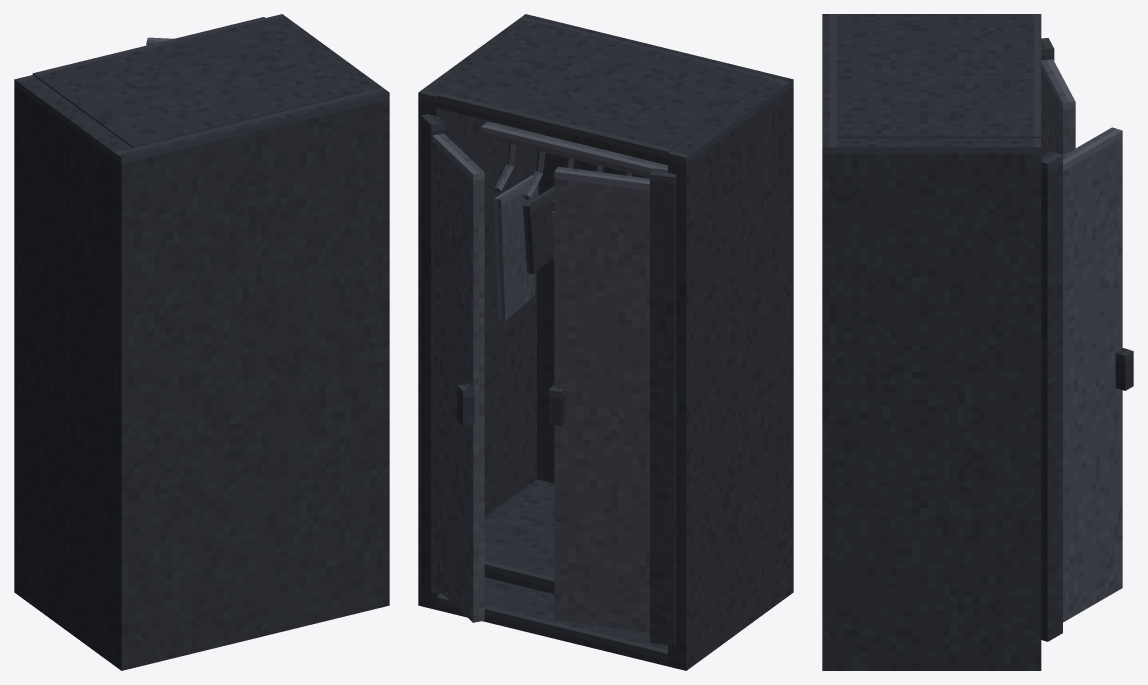
The model's file is f_vitrified_dresser.glb.
The picture shows the model from 3 angles, left to right: view 1: azimuth 30°, elevation 25°; view 2: azimuth 150°, elevation 25°; view 3: azimuth 270°, elevation 25°; orthographic projection. The views are drawn at different scales.
Visible parts, largest first — view 1: block_back, block_side--0.41000000000000003, block_shelf-2, block_side-0.41000000000000003; view 2: block_glassy-opaque-door-panel (×2), block_side--0.41000000000000003, block_shelf-2, block_side-0.41000000000000003, block_glassy-door-stile (×2), block_back, block_shelf-1, block_rigid-folded-garment (×2), block_shelf-0, block_fused-clothes-hanger-rail, block_small-door-pull (×2); view 3: block_side-0.41000000000000003, block_glassy-opaque-door-panel (×2), block_shelf-2, block_glassy-door-stile, block_back, block_side--0.41000000000000003, block_small-door-pull.
Part boxes in pixels (bbox=[...]): block_back: bbox=[114, 87, 389, 670]; block_side--0.41000000000000003: bbox=[14, 75, 132, 665]; block_shelf-2: bbox=[32, 17, 364, 147]; block_side-0.41000000000000003: bbox=[266, 14, 381, 91]; block_glassy-opaque-door-panel (×2): bbox=[432, 133, 649, 632]; block_side--0.41000000000000003: bbox=[668, 80, 786, 670]; block_shelf-2: bbox=[436, 22, 768, 164]; block_side-0.41000000000000003: bbox=[418, 19, 536, 609]; block_glassy-door-stile (×2): bbox=[421, 114, 676, 645]; block_back: bbox=[519, 14, 793, 596]; block_shelf-1: bbox=[484, 479, 554, 593]; block_rigid-folded-garment (×2): bbox=[494, 175, 554, 321]; block_shelf-0: bbox=[436, 577, 667, 666]; block_fused-clothes-hanger-rail: bbox=[480, 121, 667, 177]; block_small-door-pull (×2): bbox=[457, 383, 565, 426]; block_side-0.41000000000000003: bbox=[836, 138, 1041, 670]; block_glassy-opaque-door-panel (×2): bbox=[1041, 59, 1122, 622]; block_shelf-2: bbox=[836, 21, 1041, 138]; block_glassy-door-stile: bbox=[1041, 151, 1062, 641]; block_back: bbox=[822, 14, 836, 670]; block_side--0.41000000000000003: bbox=[836, 14, 1041, 21]; block_small-door-pull: bbox=[1115, 348, 1133, 390].
Bounding box in the file's own units: 0.88 × 1.62 × 0.8675.
2 materials, 2 textured.
